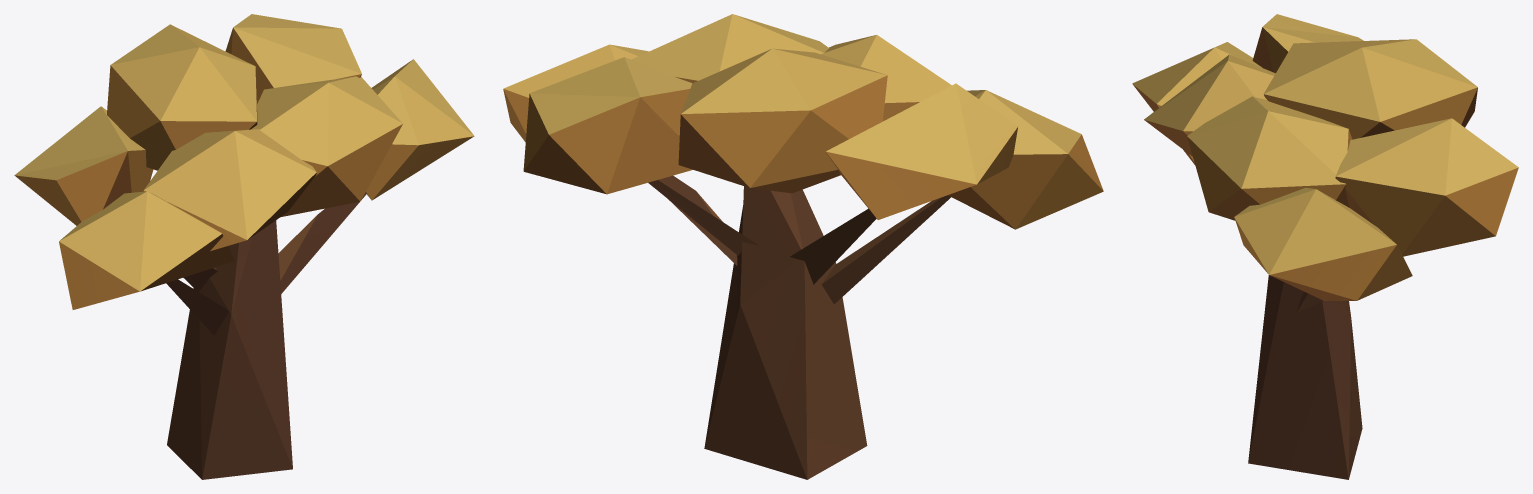
3 renders of one model, left to right at view 1: azimuth 30°, elevation 25°; view 2: azimuth 150°, elevation 25°; view 3: azimuth 270°, elevation 25°, orthographic. The views are drawn at different scales.
Parts seen in each view (by area): view 1: WK_Tree_Oak_GnarledAmber_LOD2_Compact; view 2: WK_Tree_Oak_GnarledAmber_LOD2_Compact; view 3: WK_Tree_Oak_GnarledAmber_LOD2_Compact.
Boxes of the visible parts, x1,y1,x2,y2 form: WK_Tree_Oak_GnarledAmber_LOD2_Compact: [14, 14, 474, 479]; WK_Tree_Oak_GnarledAmber_LOD2_Compact: [503, 14, 1103, 479]; WK_Tree_Oak_GnarledAmber_LOD2_Compact: [1132, 14, 1518, 479].
Size of the model in its own units: 5.93 by 4.81 by 4.24.
